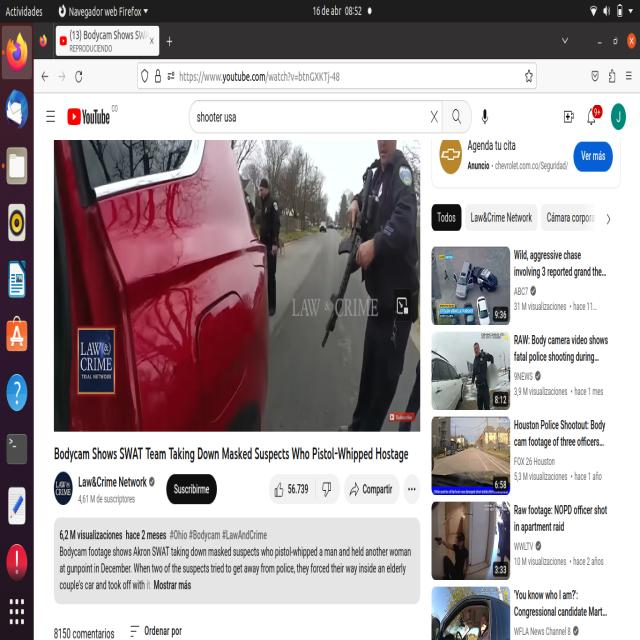Rifle: (317, 164, 375, 353)
